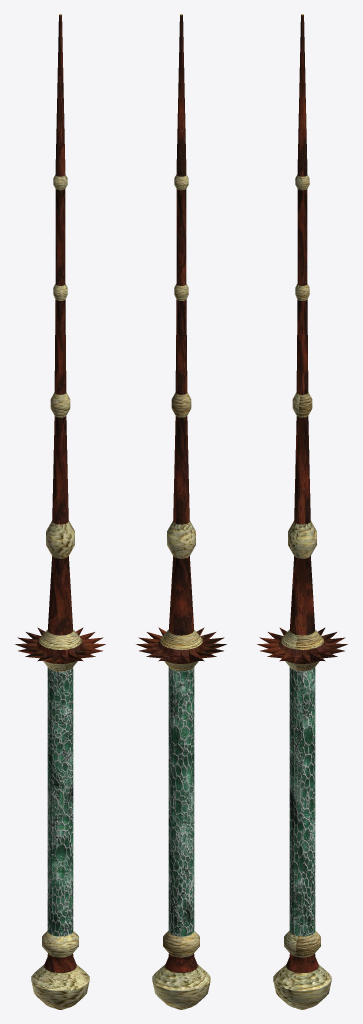
Rendered from magic_wand_00.FBX.
The picture shows the model from 3 angles, left to right: view 1: azimuth 90°, elevation 25°; view 2: azimuth 210°, elevation 25°; view 3: azimuth 270°, elevation 25°; orthographic projection.
Parts seen in each view (by area): view 1: zauberstab; view 2: zauberstab; view 3: zauberstab.
Boxes of the visible parts, x1,y1,x2,y2 form: zauberstab: (15,14,105,1009); zauberstab: (136,14,226,1009); zauberstab: (257,14,347,1009).
Bounding box in the file's own units: 4 × 4.06 × 48.02.
1 material, 1 textured.
